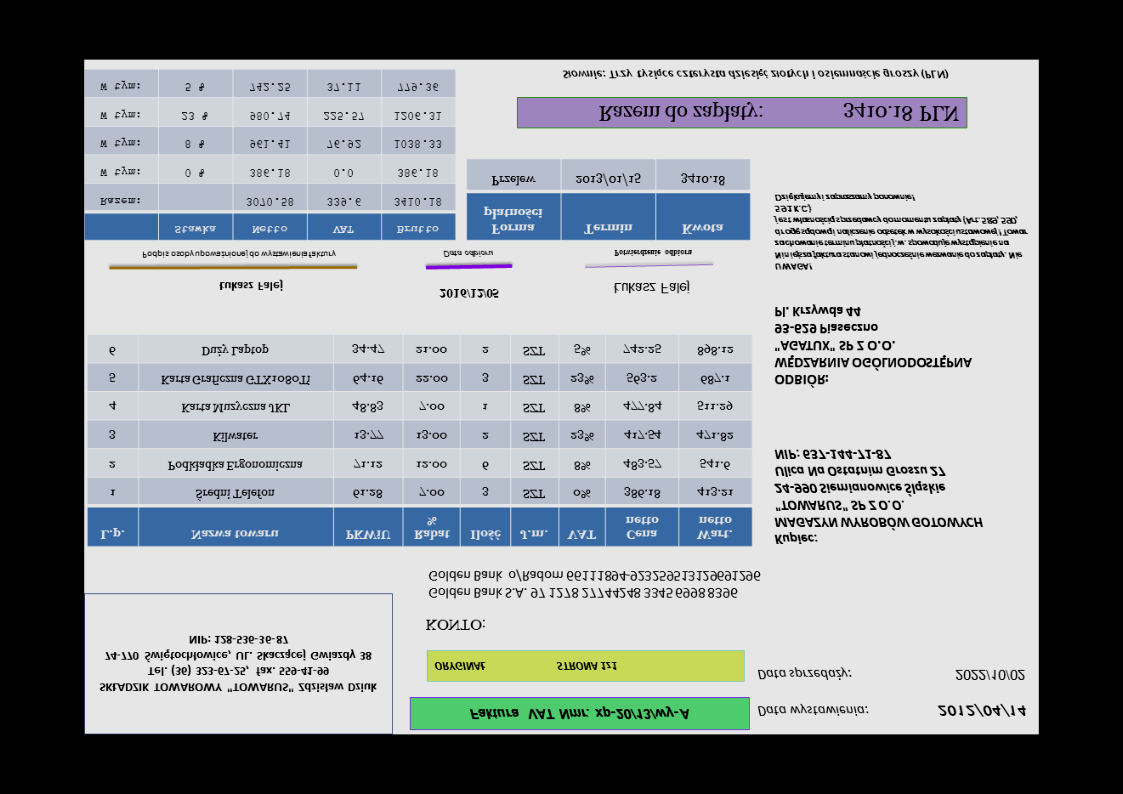Table: (86, 333, 753, 547), (85, 70, 456, 240), (465, 158, 752, 242)
TextBox: (773, 448, 985, 547), (773, 192, 1029, 272), (98, 632, 380, 695), (774, 304, 972, 389), (427, 569, 764, 601), (598, 102, 961, 123), (561, 68, 952, 82), (466, 704, 691, 723), (139, 247, 338, 261), (432, 660, 619, 673), (757, 703, 870, 720), (757, 666, 854, 683), (935, 704, 1028, 720), (611, 278, 690, 296), (954, 667, 1028, 683), (437, 285, 500, 302), (217, 278, 285, 293), (425, 618, 486, 633), (613, 248, 693, 258), (441, 247, 495, 260)
